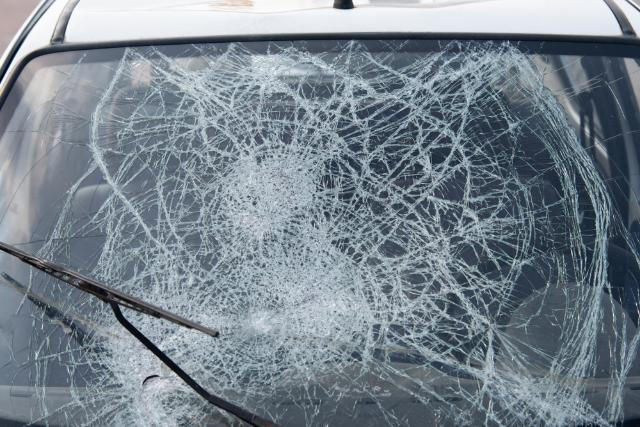glass shatter: (0, 37, 640, 427)
